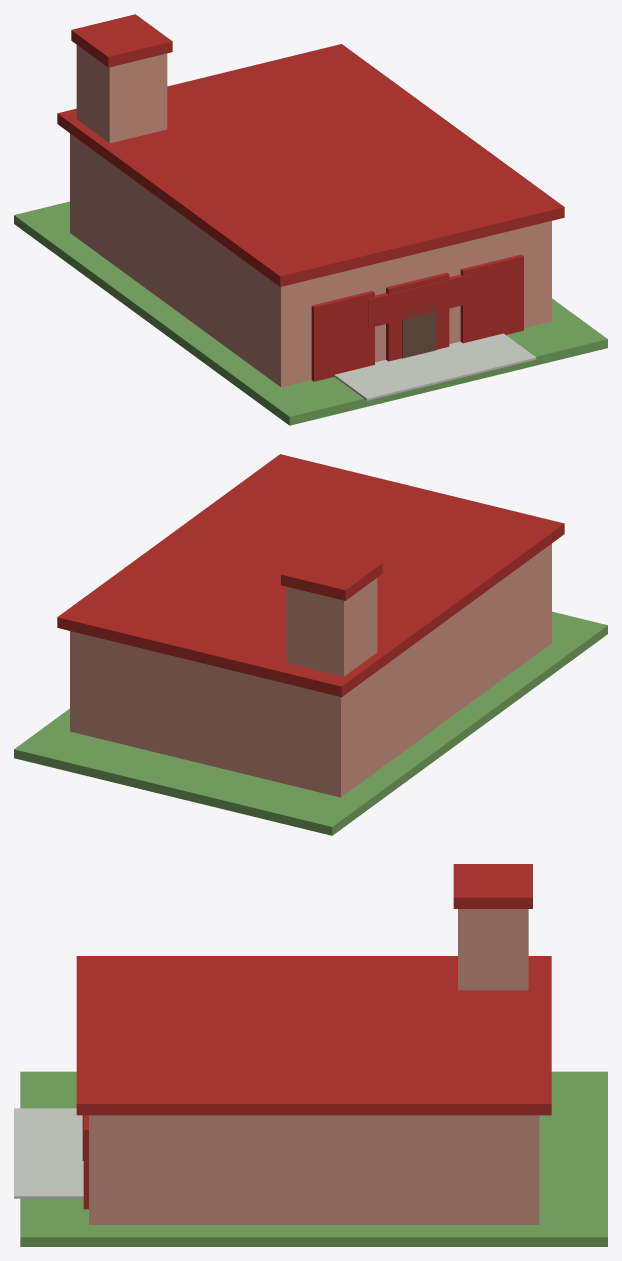
Rendered from fireStation.glb.
3 renders of one model, top to bottom at view 1: azimuth 30°, elevation 25°; view 2: azimuth 150°, elevation 25°; view 3: azimuth 270°, elevation 25°, orthographic. The views are drawn at different scales.
Visible parts, largest first — view 1: fireStation; view 2: fireStation; view 3: fireStation.
Boxes of the visible parts, x1,y1,x2,y2 form: fireStation: (14, 14, 607, 425); fireStation: (14, 454, 607, 835); fireStation: (14, 864, 607, 1246).
Bounding box in the file's own units: 1.88 × 1.21 × 2.85.
